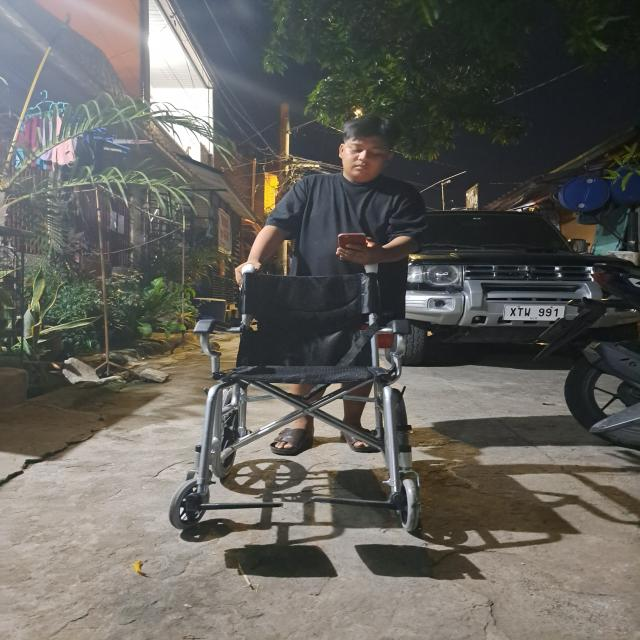wheelchairs: (163, 250, 433, 547)
